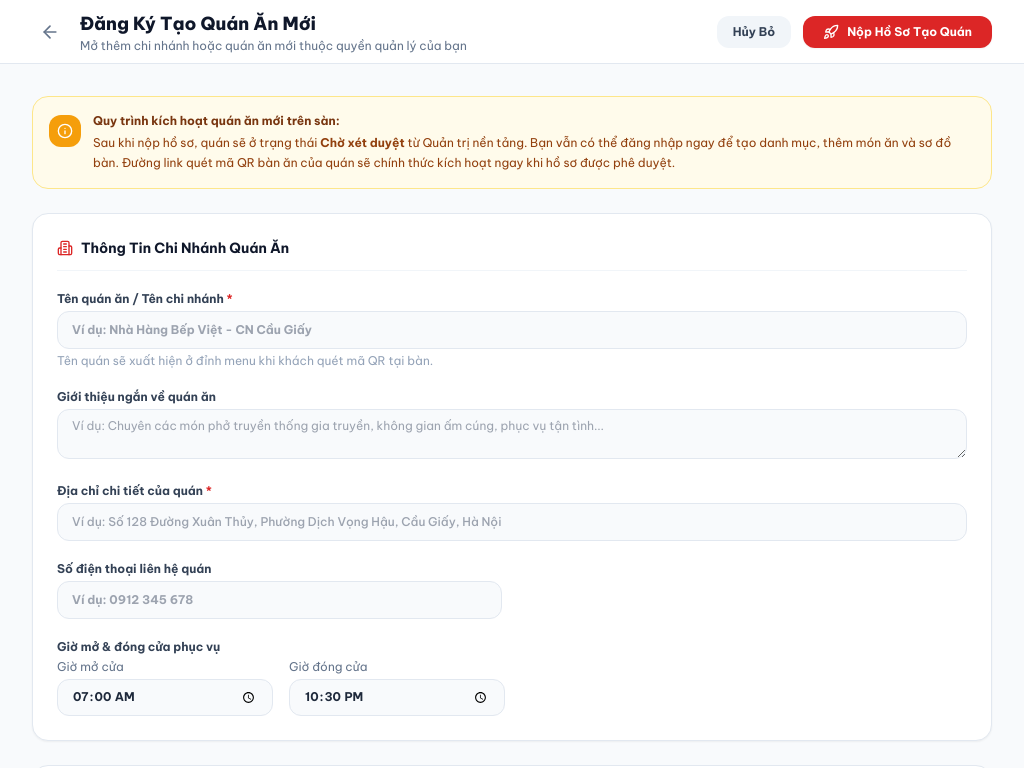
Test: Story P2: ShopCreate Component (mockup a14-create-shop) › submits valid shop information and displays pending approval (P2) banner
This screenshot has width=1024, height=768.
Type "Nhà Hàng Bếp Việt - CN Cầu Giấy" into the field with test id "shop-name-input" at (512, 330), box [57,311,967,349]
Replace the text in the text box with test id "shop-intro-input" with "Chuyên phở bò và cơm niêu truyền thống" at (512, 434), box [57,409,967,459]
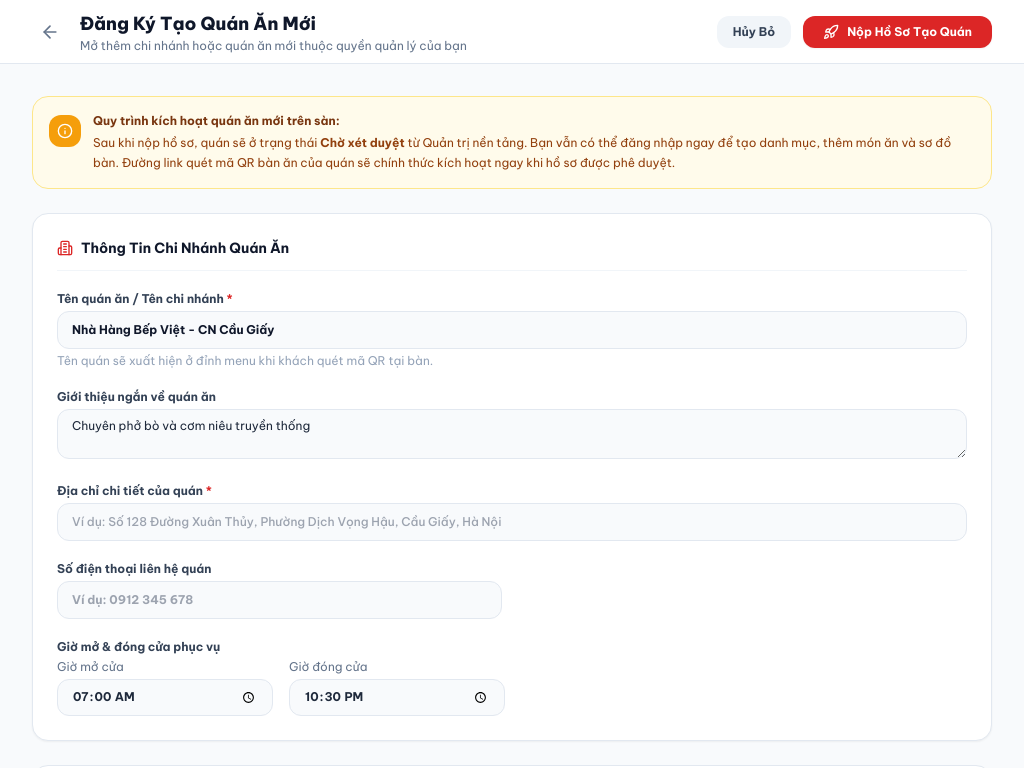
Replace the text in the field with test id "shop-position-input" with "128 Xuân Thủy, Cầu Giấy, Hà Nội" at (512, 522), box [57,503,967,541]
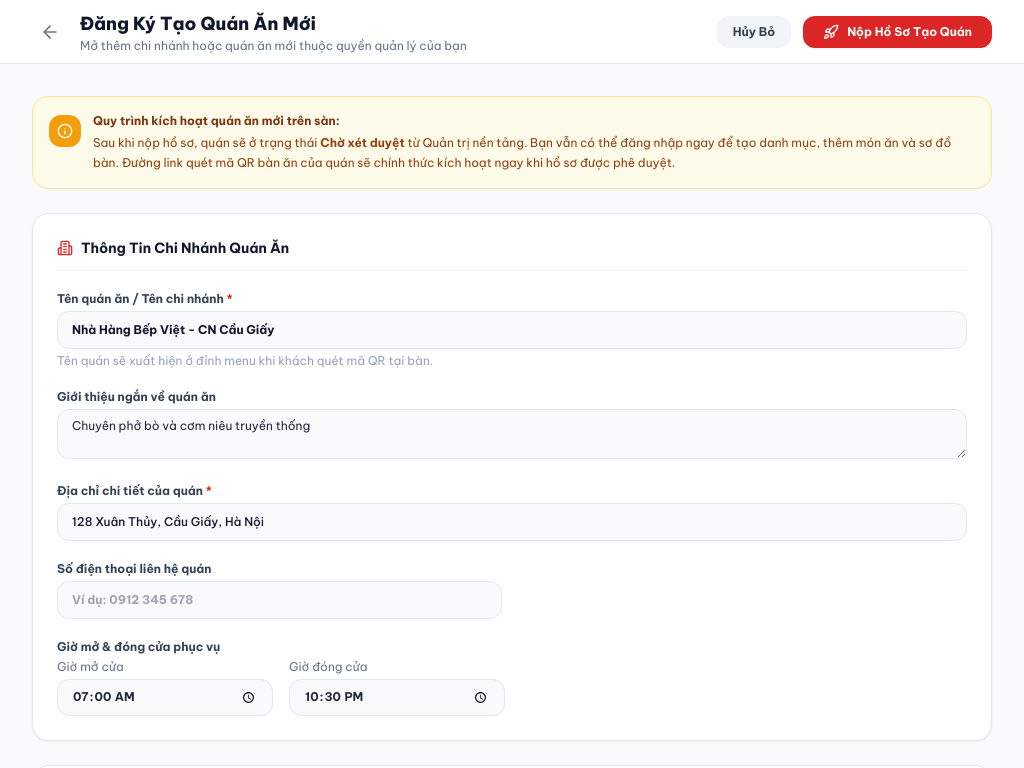
Type "0912345678" into the field with test id "shop-phone-input" at (280, 600), box [57,581,502,619]
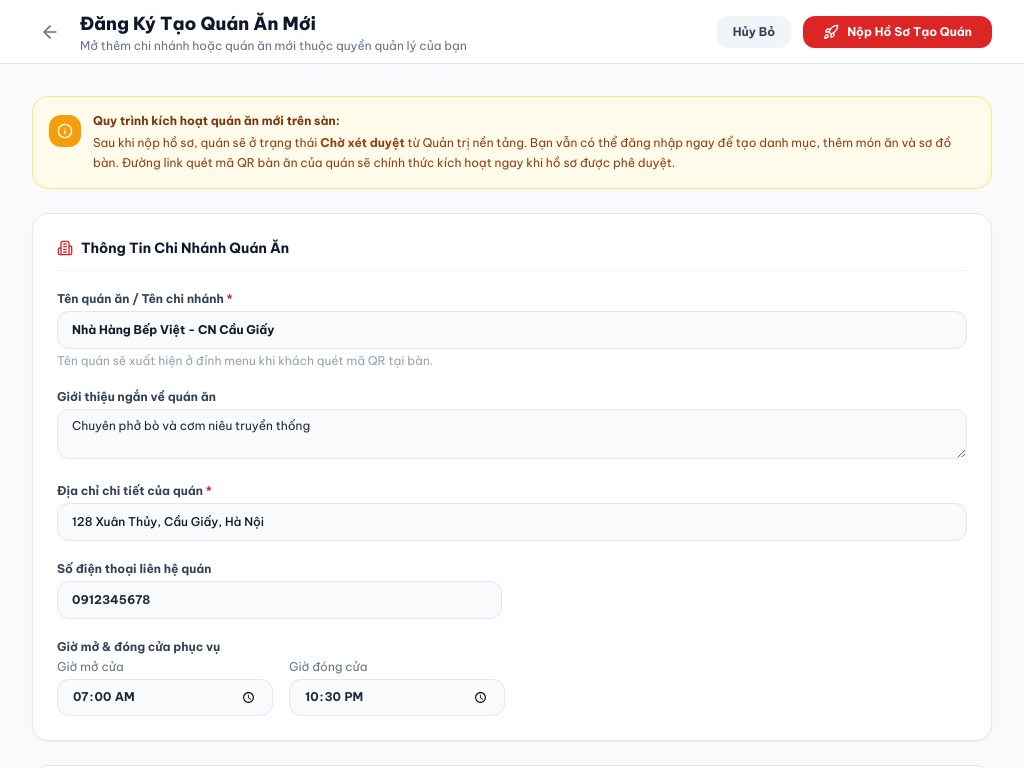
Replace the text in the time field with test id "shop-open-time-input" with "06:30" at (165, 697), box [57,679,273,716]
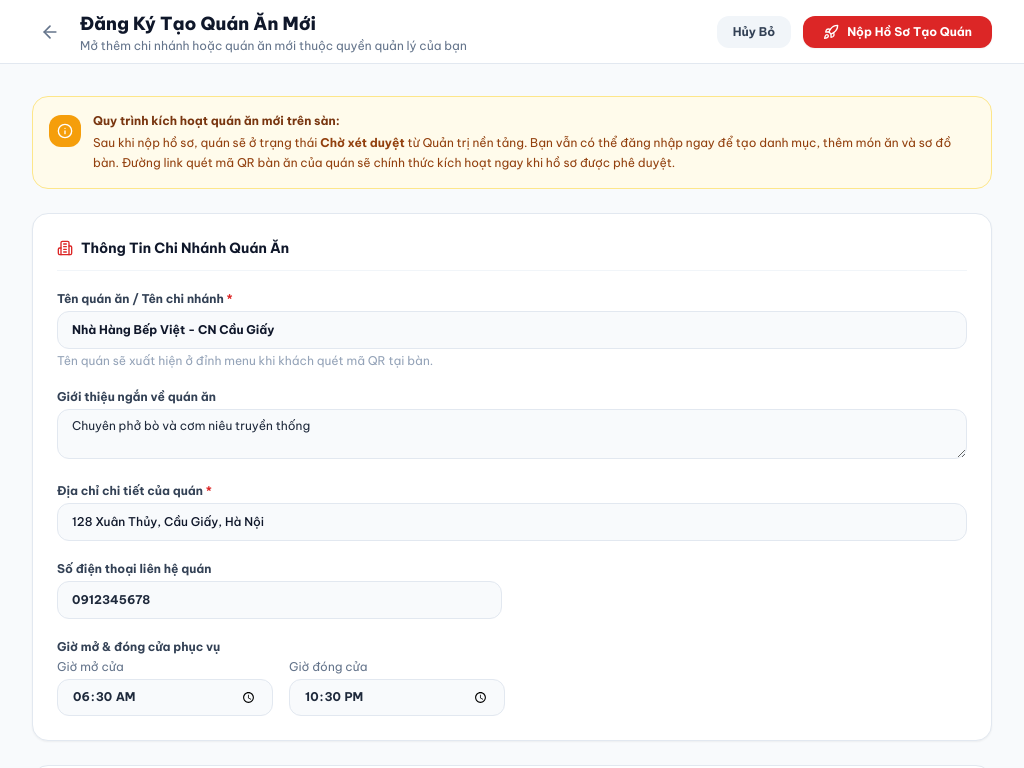
Replace the text in the time field with test id "shop-close-time-input" with "23:00" at (397, 697), box [289,679,505,716]
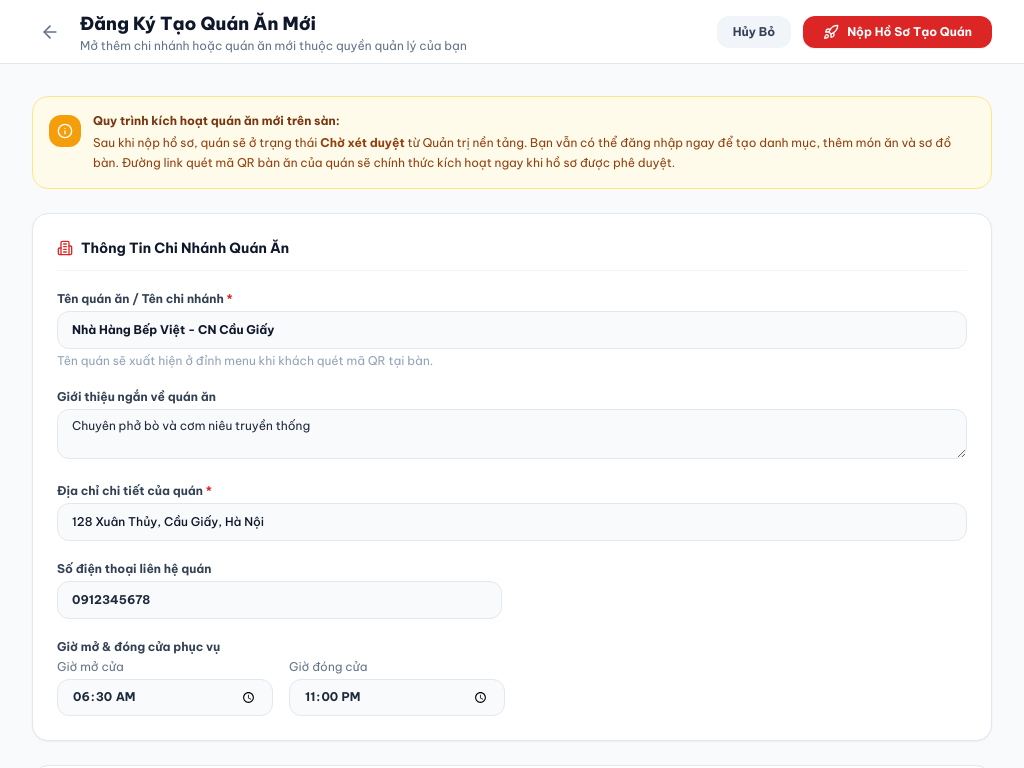
Click the button with test id "shop-create-submit-btn" at (898, 32), box [803,16,992,48]
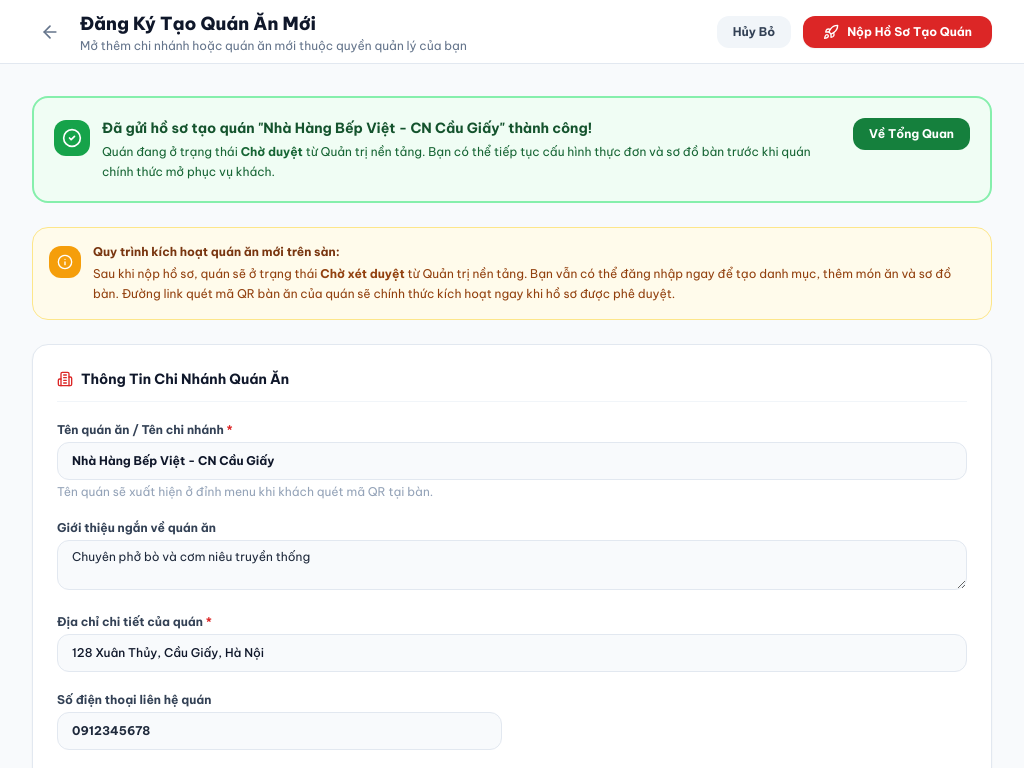
Result: the element with test id "shop-create-success-banner" is shown at [32,96,992,203]
Result: the text "Đã gửi hồ sơ tạo quán \"Nhà Hàng Bếp Việt - CN Cầu Giấy\" thành công!" is shown at [102,119,592,137]
Result: the text "Chờ duyệt" is shown at [241,144,303,159]
